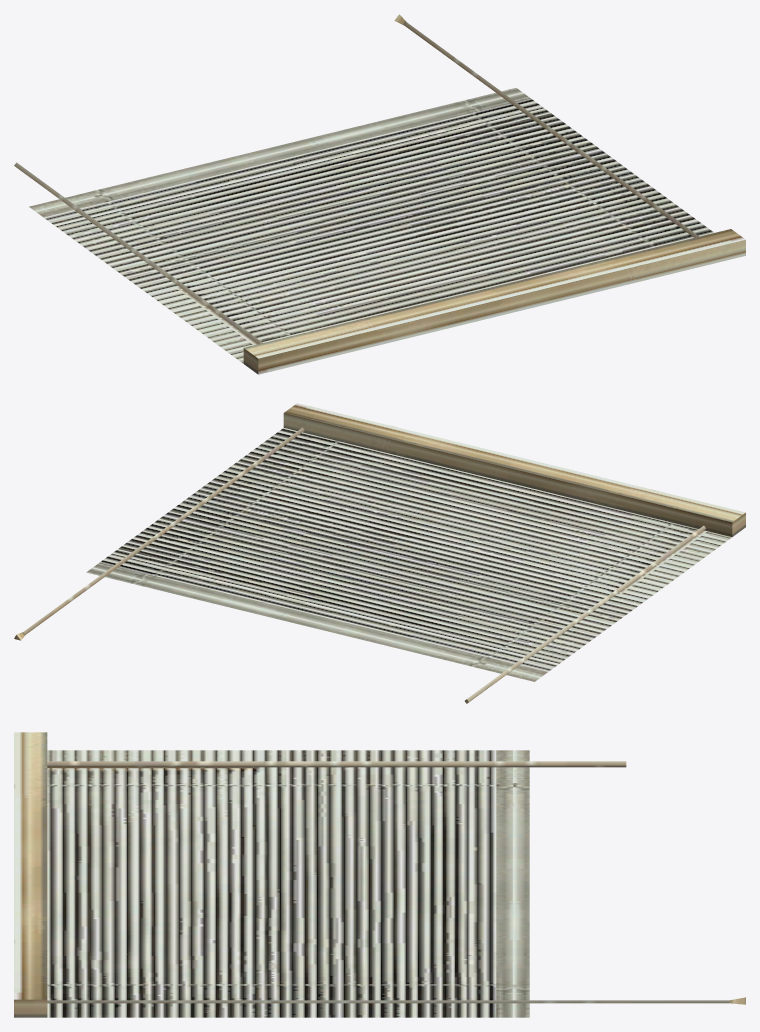
Rendered from blinds_half.fbx.
3 views of the same model, one above another, from view 1: azimuth 30°, elevation 25°; view 2: azimuth 150°, elevation 25°; view 3: azimuth 270°, elevation 25° (orthographic). The views are drawn at different scales.
Parts seen in each view (by area): view 1: mesh_0; view 2: mesh_0; view 3: mesh_0.
Boxes of the visible parts, left/top/right/bottom form: mesh_0: left=14, top=14, right=745, bottom=374; mesh_0: left=14, top=403, right=745, bottom=703; mesh_0: left=14, top=732, right=745, bottom=1017.
Bounding box in the file's own units: 190 × 6 × 220.
1 material, 1 textured.
